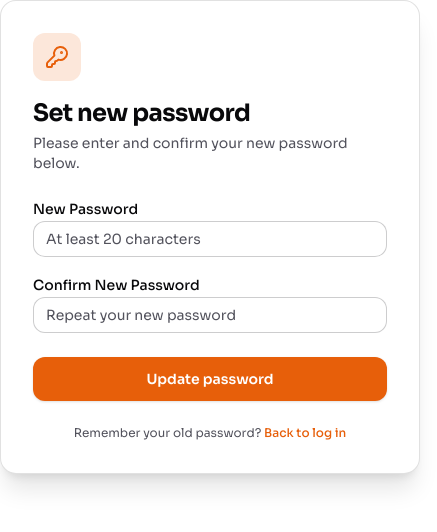
Test: UpdatePasswordForm Component › enforces matching confirmation validation
Type "this is a very long valid password sentence 123" into the password field labelled "New Password" at (210, 239), box x1=33 y1=221 x2=387 y2=257
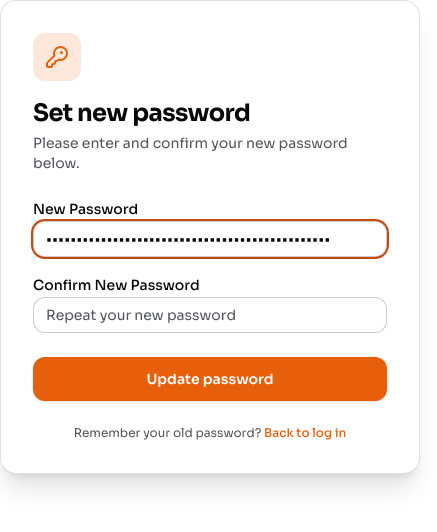
Type "this is a completely different password sentence 456" into the password field labelled "Confirm New Password" at (210, 315), box x1=33 y1=297 x2=387 y2=333
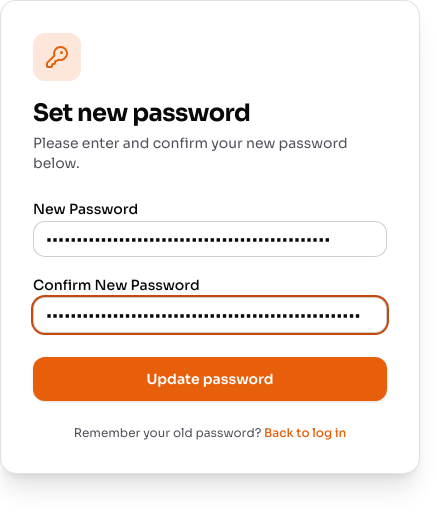
Click the button "Update password" at (210, 379), box x1=33 y1=357 x2=387 y2=401
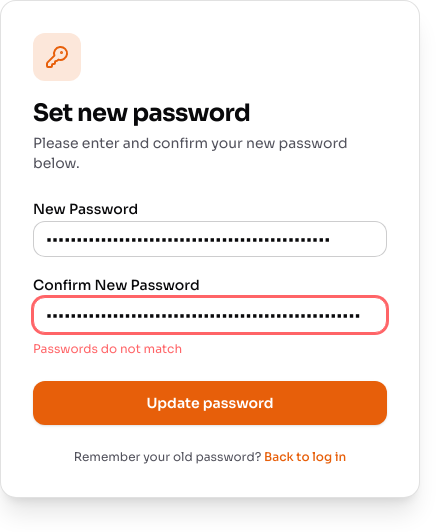
Check: the text "Passwords do not match" is shown, box x1=33 y1=341 x2=182 y2=356
